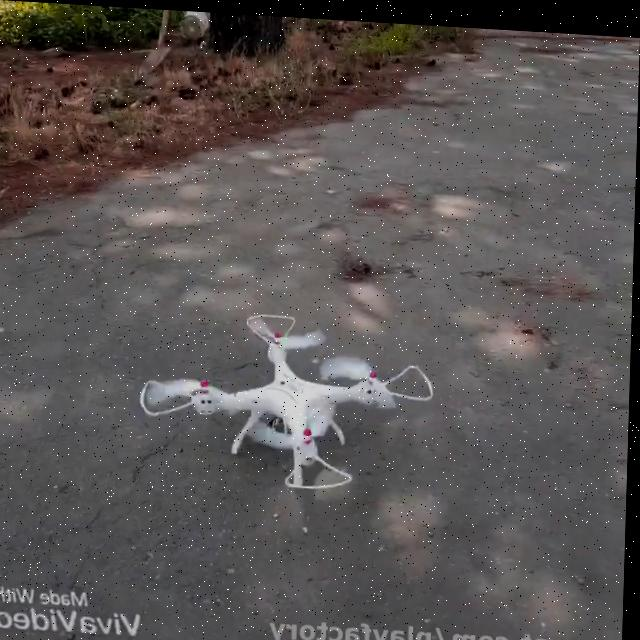drone: (138, 302, 442, 500)
